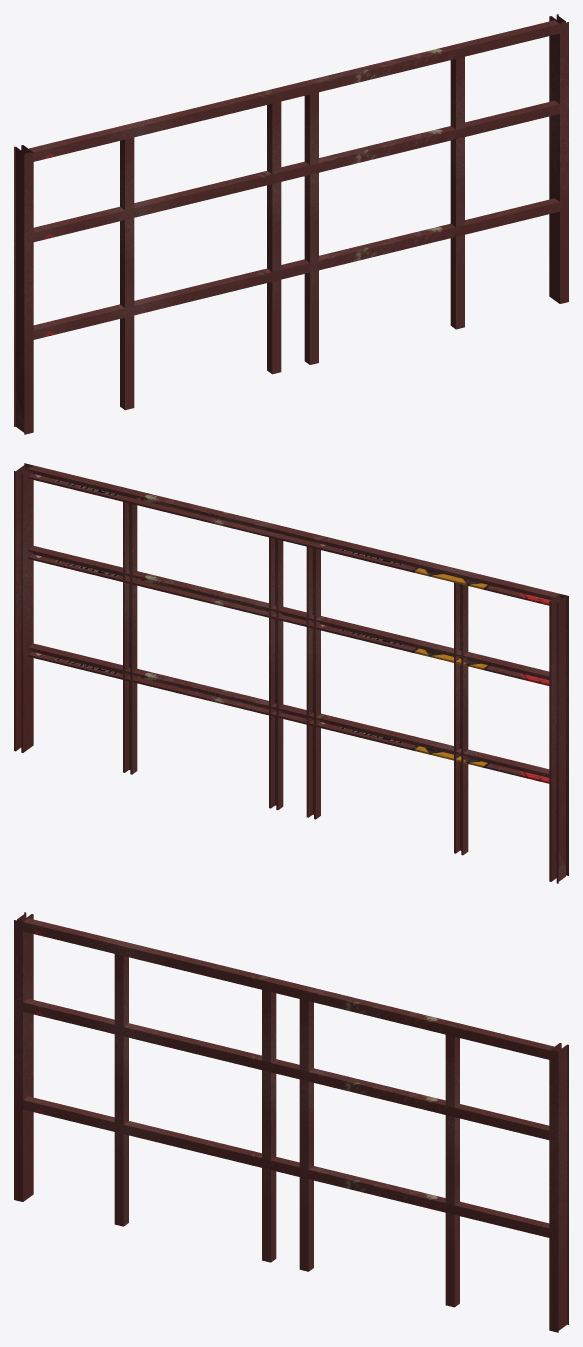
Rendered from CS_formwork_system_04.FBX.
3 views of the same model, one above another, from view 1: azimuth 30°, elevation 25°; view 2: azimuth 150°, elevation 25°; view 3: azimuth 330°, elevation 25° (orthographic).
Parts seen in each view (by area): view 1: SM_formwork_system_04; view 2: SM_formwork_system_04; view 3: SM_formwork_system_04.
Boxes of the visible parts, x1,y1,x2,y2 form: SM_formwork_system_04: (14,14,568,434); SM_formwork_system_04: (14,463,568,883); SM_formwork_system_04: (14,912,568,1332).
Size of the model in its own units: 600 by 20 by 295.
